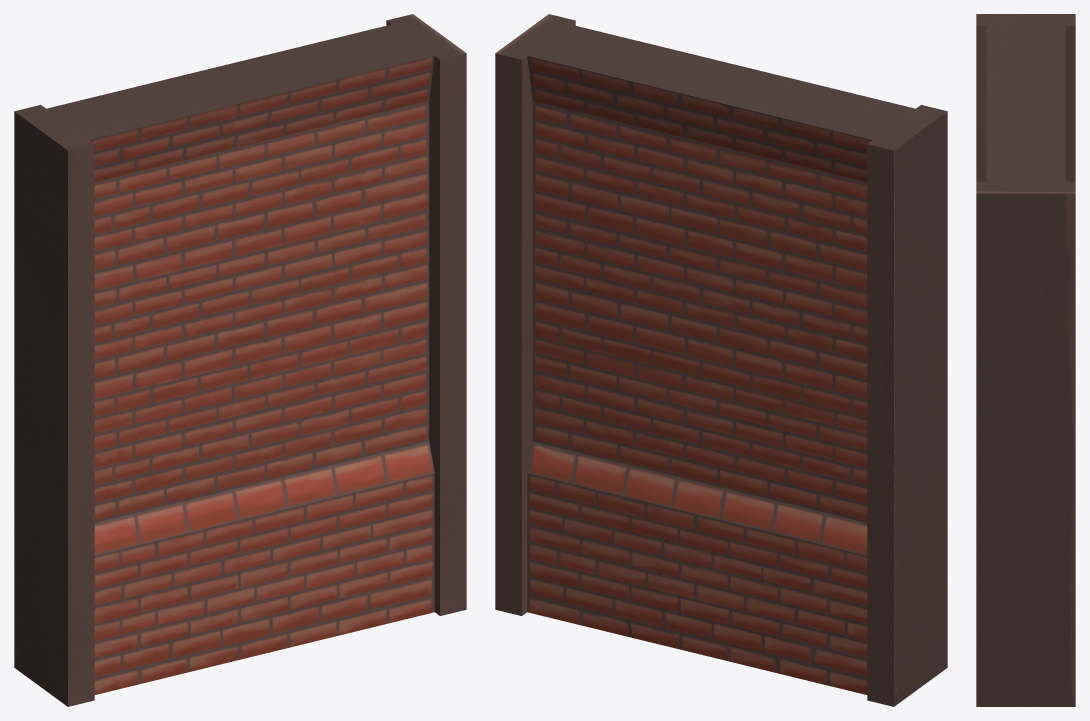
File: Wall NO WINDOW.fbx
3 views of the same model, side by side, from view 1: azimuth 30°, elevation 25°; view 2: azimuth 150°, elevation 25°; view 3: azimuth 270°, elevation 25° (orthographic). The views are drawn at different scales.
Parts seen in each view (by area): view 1: Plane; view 2: Plane; view 3: Plane.
Part boxes in pixels (x1,y1,x2,y2): Plane: (14, 14, 466, 706); Plane: (495, 14, 947, 706); Plane: (976, 14, 1075, 706).
Size of the model in its own units: 600 by 800 by 140.
